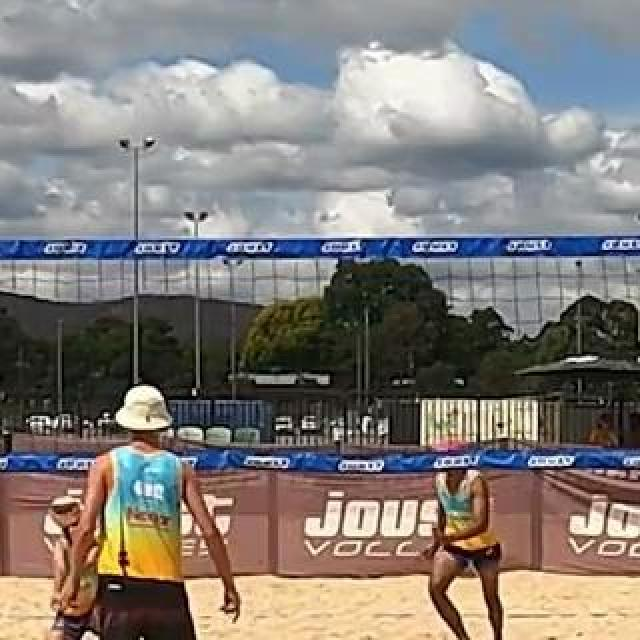volleyball: (51, 494, 83, 526)
